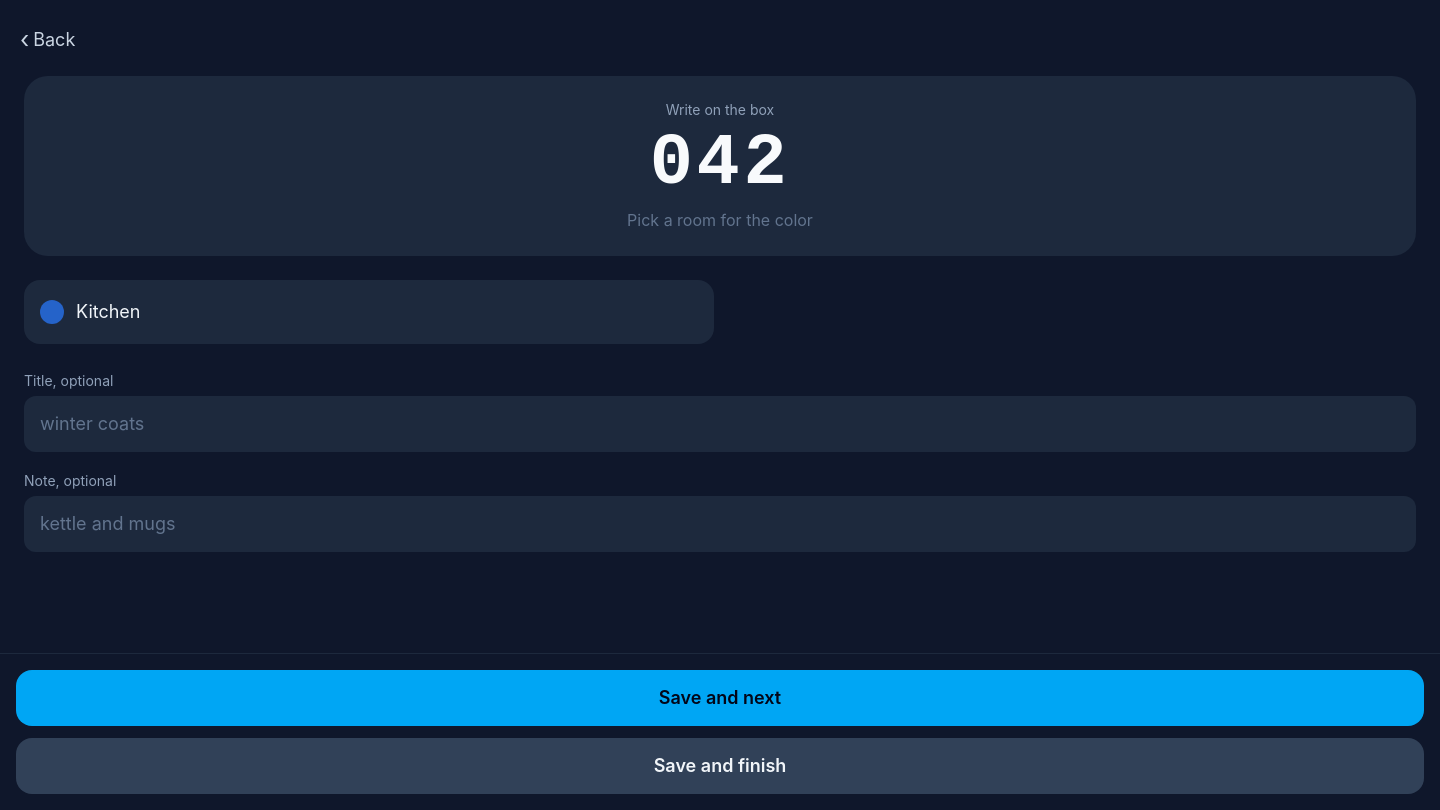
AddBox › stays on the box when neither answer is wanted
Click the button "‹ Back" at [52, 40], box top-left (12, 12), bottom-right (91, 68)
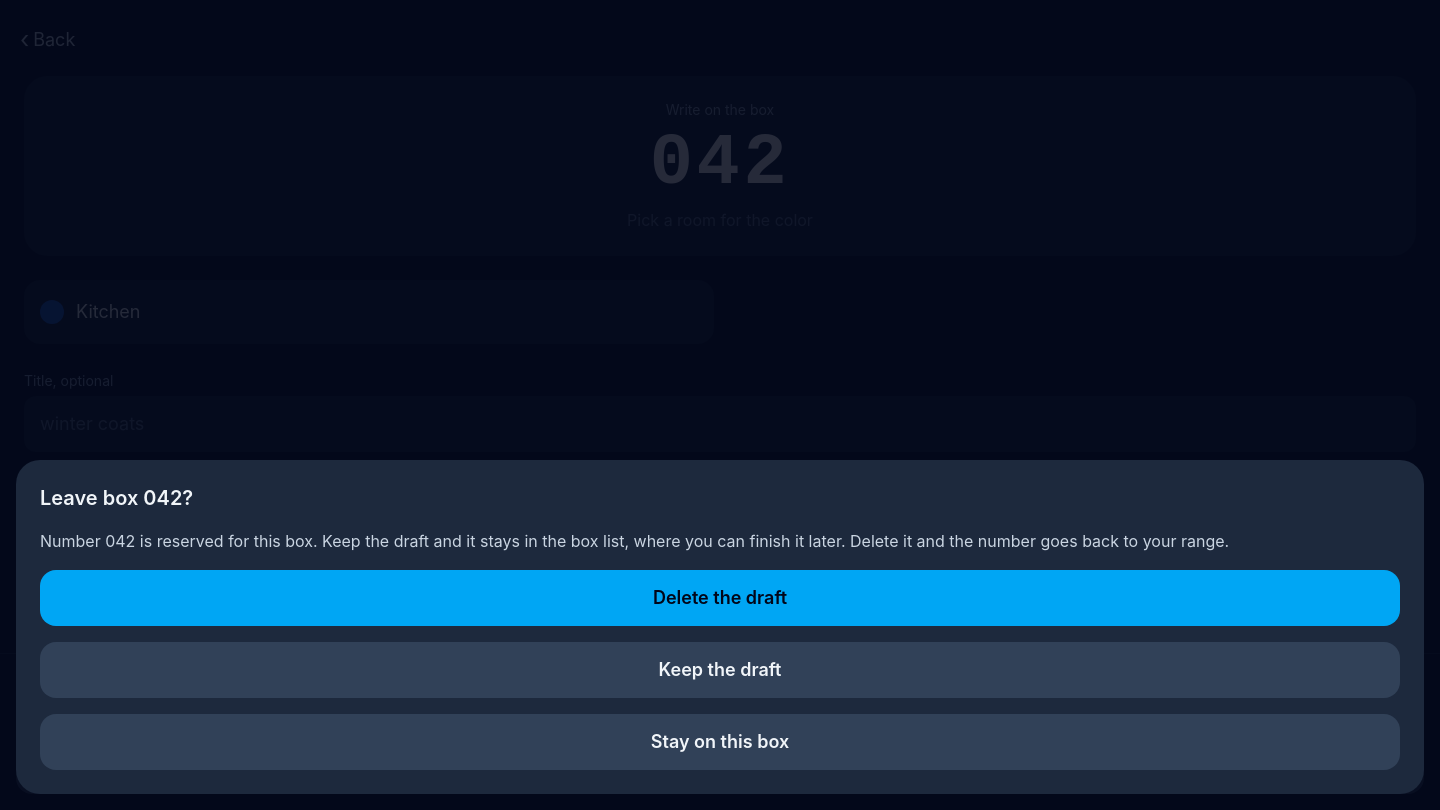
Click the button "Stay on this box" at [720, 742], box top-left (40, 714), bottom-right (1400, 770)
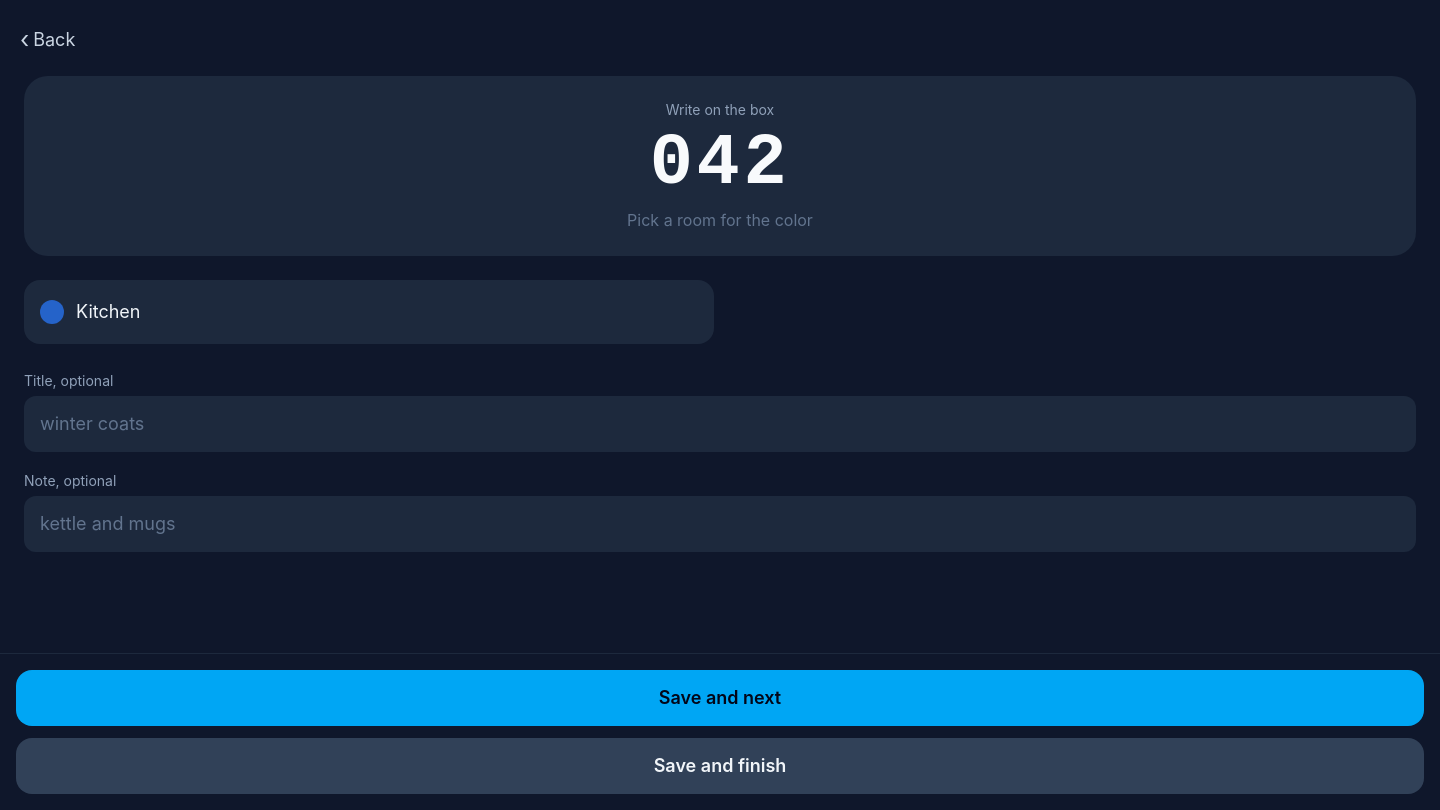
Result: the heading "Leave box 042?" is gone
